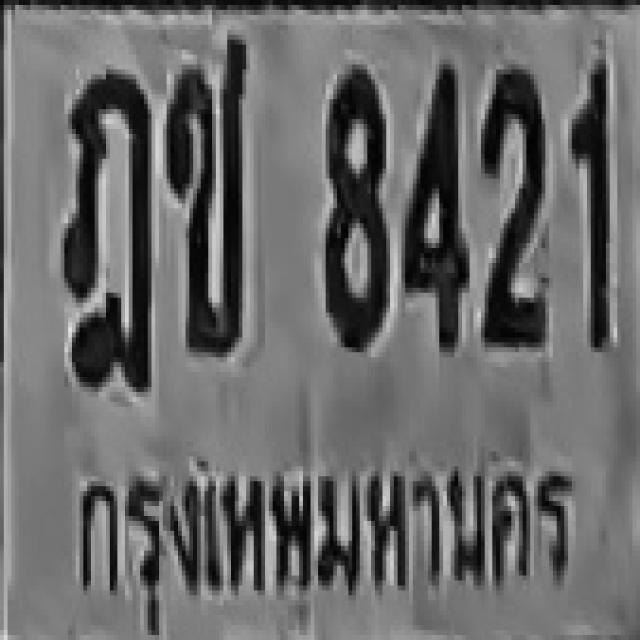1: (568, 60, 610, 298)
2: (479, 82, 543, 340)
23DorChaDa: (60, 69, 152, 387), (60, 114, 152, 387)
4: (401, 60, 466, 348)
41PhorSamPhao: (60, 64, 152, 273)
8: (322, 60, 386, 348)
Bangkok: (63, 444, 592, 637)
